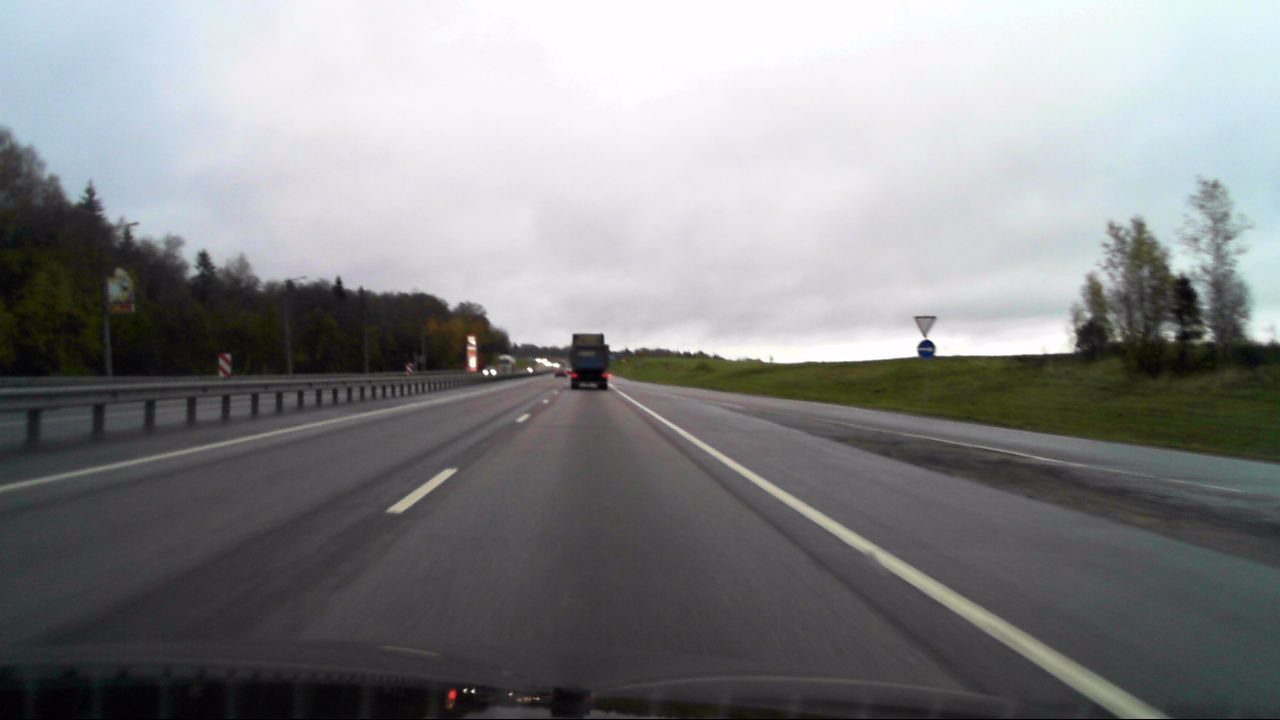Turn Right: (917, 339, 936, 359)
